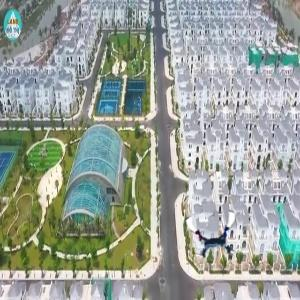drone: (187, 209, 240, 262)
